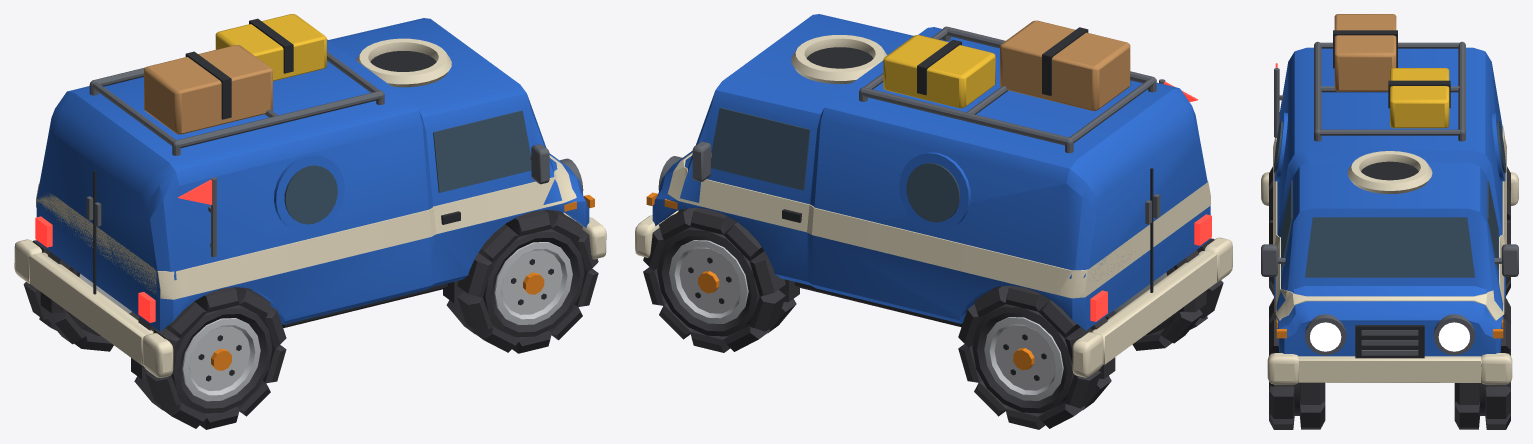
Rendered from van.glb.
3 renders of one model, left to right at view 1: azimuth 30°, elevation 25°; view 2: azimuth 150°, elevation 25°; view 3: azimuth 270°, elevation 25°, orthographic. The views are drawn at different scales.
Parts seen in each view (by area): view 1: body, wheel_rear, wheel_front; view 2: body, wheel_rear, wheel_front; view 3: body, wheel_front, wheel_rear.
Boxes of the visible parts, x1,y1,x2,y2 form: body: [14, 14, 606, 377]; wheel_rear: [23, 240, 286, 429]; wheel_front: [443, 210, 598, 353]; body: [635, 14, 1232, 377]; wheel_rear: [958, 238, 1223, 429]; wheel_front: [643, 207, 799, 352]; body: [1261, 14, 1518, 384]; wheel_front: [1269, 297, 1510, 429]; wheel_rear: [1269, 166, 1510, 295].
Bounding box in the file's own units: 3.56 × 2.35 × 2.
